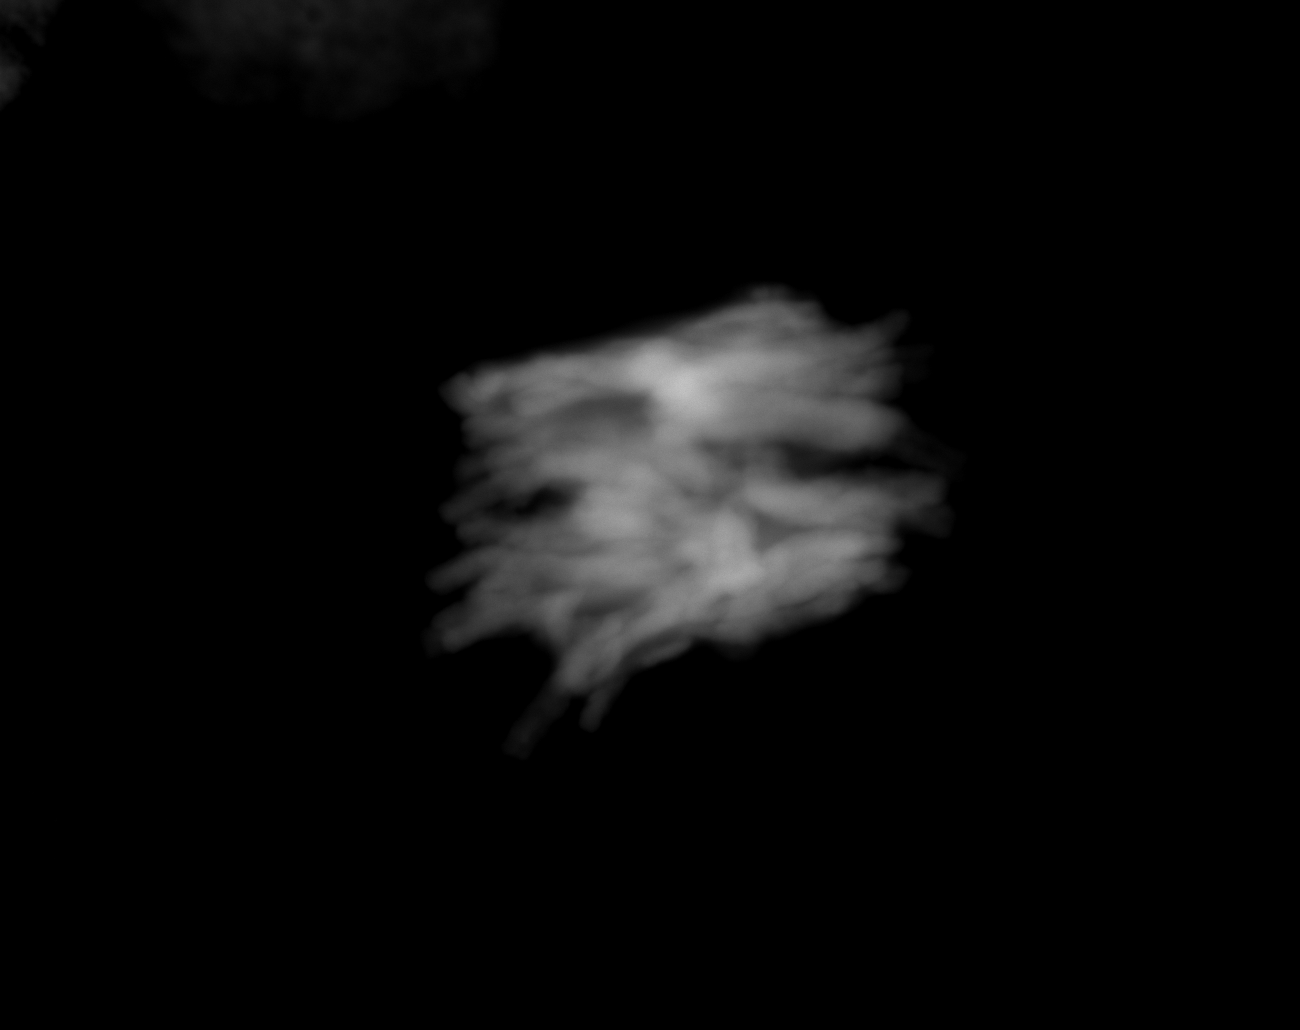Chromosomes: (338, 247, 1003, 816)
